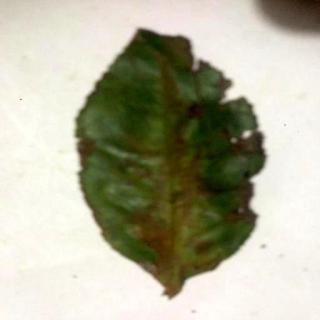Red Leaf Spot: (74, 28, 264, 298)
